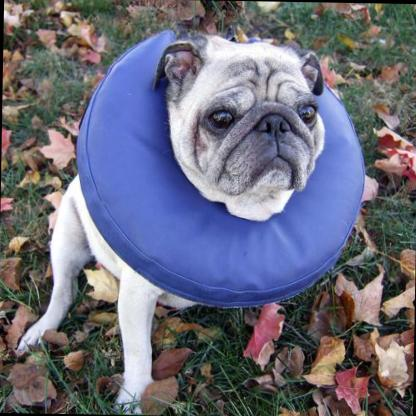pug: (16, 28, 324, 413)
